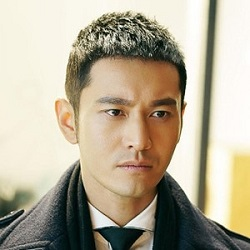unmask: (78, 76, 183, 198)
